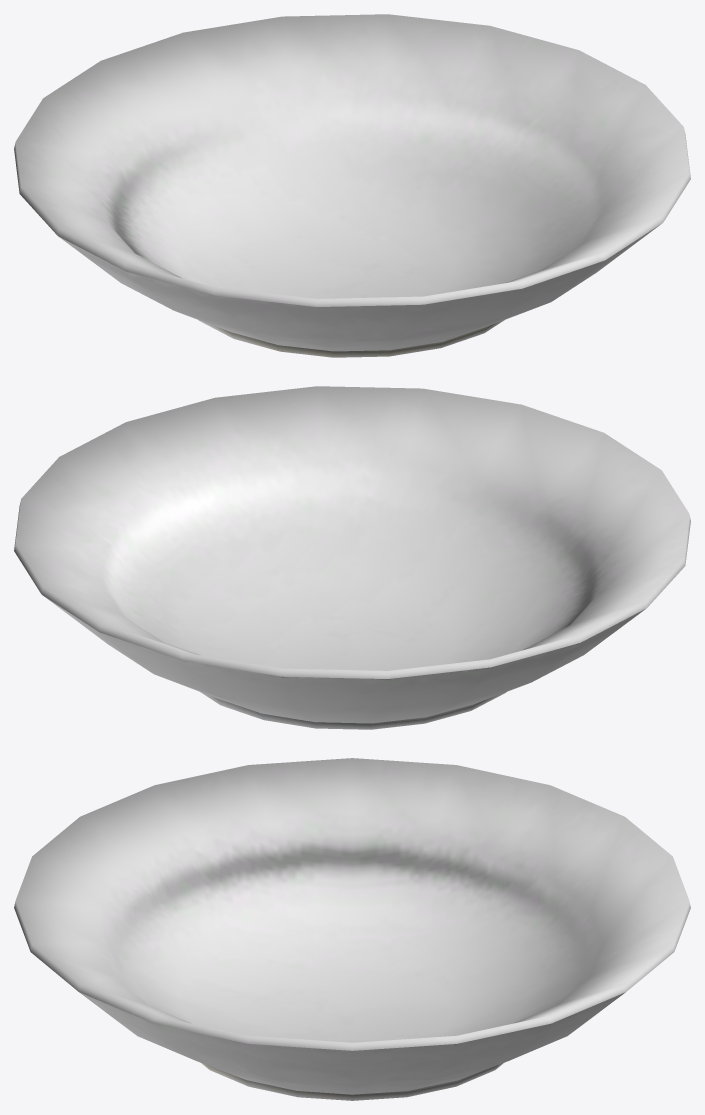
Rendered from bowl.dae.
3 views of the same model, one above another, from view 1: azimuth 30°, elevation 25°; view 2: azimuth 150°, elevation 25°; view 3: azimuth 270°, elevation 25° (orthographic).
Parts seen in each view (by area): view 1: plate__2_; view 2: plate__2_; view 3: plate__2_.
Part boxes in pixels (left/top/right/bottom): plate__2_: left=14, top=14, right=690, bottom=357; plate__2_: left=14, top=386, right=690, bottom=729; plate__2_: left=14, top=758, right=690, bottom=1100.
Bounding box in the file's own units: 0.4798 × 0.0985 × 0.4798.
